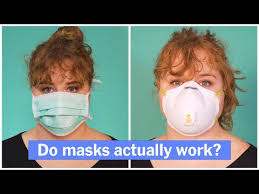masked: (156, 30, 233, 139), (24, 31, 96, 137)
